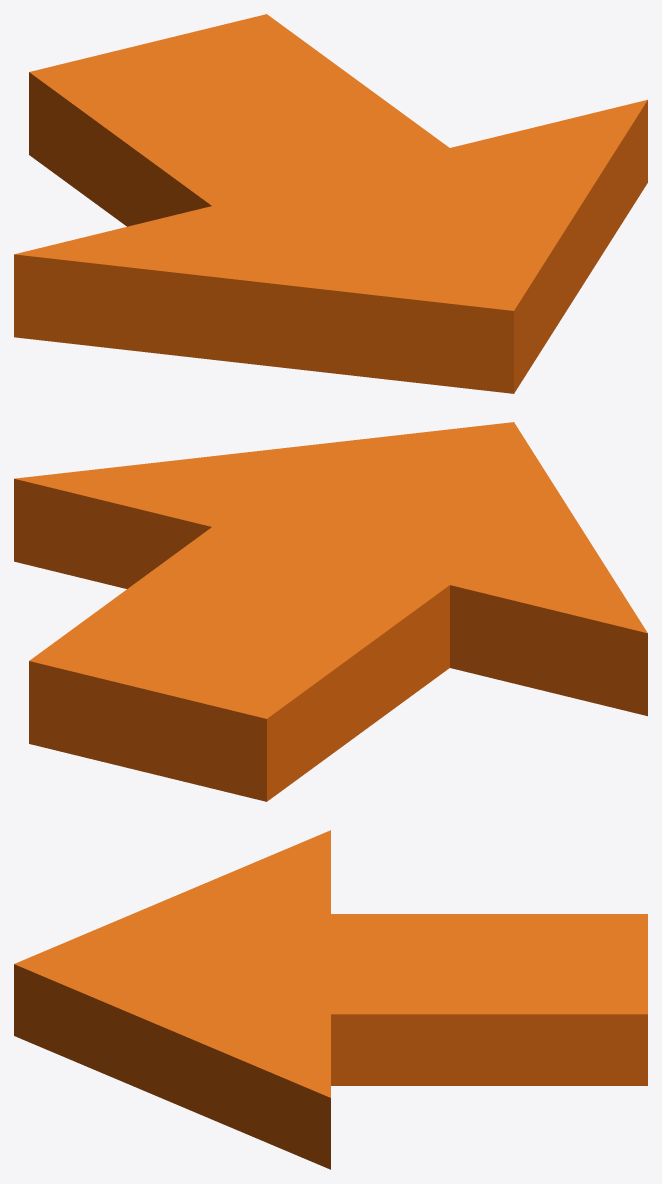
File: Orange Directional Arrow.glb
The picture shows the model from 3 angles, top to bottom: view 1: azimuth 30°, elevation 25°; view 2: azimuth 150°, elevation 25°; view 3: azimuth 270°, elevation 25°; orthographic projection. The views are drawn at different scales.
Visible parts, largest first — view 1: cube; view 2: cube; view 3: cube.
Part boxes in pixels (x1,y1,x2,y2): cube: (14, 14, 647, 393); cube: (14, 422, 647, 801); cube: (14, 830, 647, 1169).
Bounding box in the file's own units: 1 × 0.125 × 1.
1 material, 1 textured.
